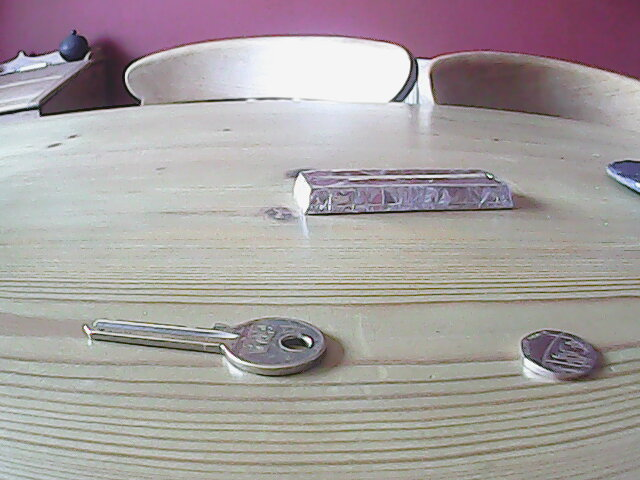Coin: (516, 326, 603, 384)
Foil: (291, 166, 521, 219)
Key: (86, 313, 331, 386)
